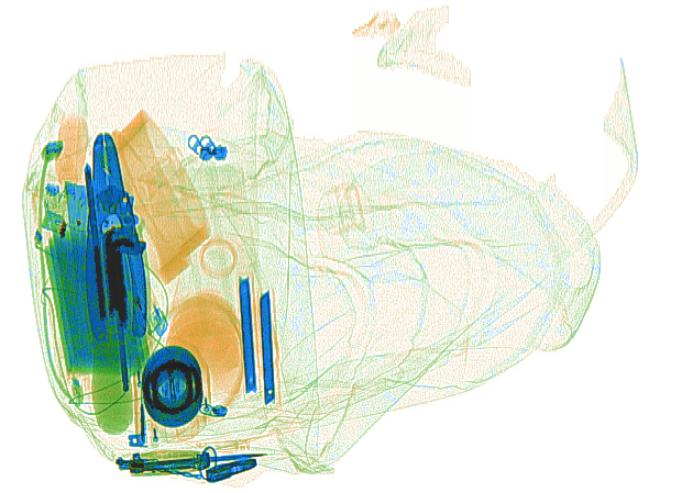knife: (234, 274, 258, 394), (256, 289, 276, 408)
lighter: (113, 247, 169, 340)
